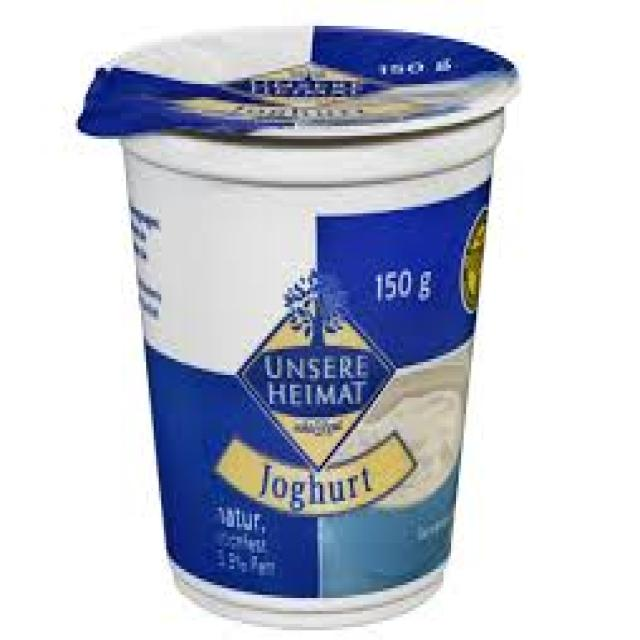plastic: (78, 26, 517, 617)
